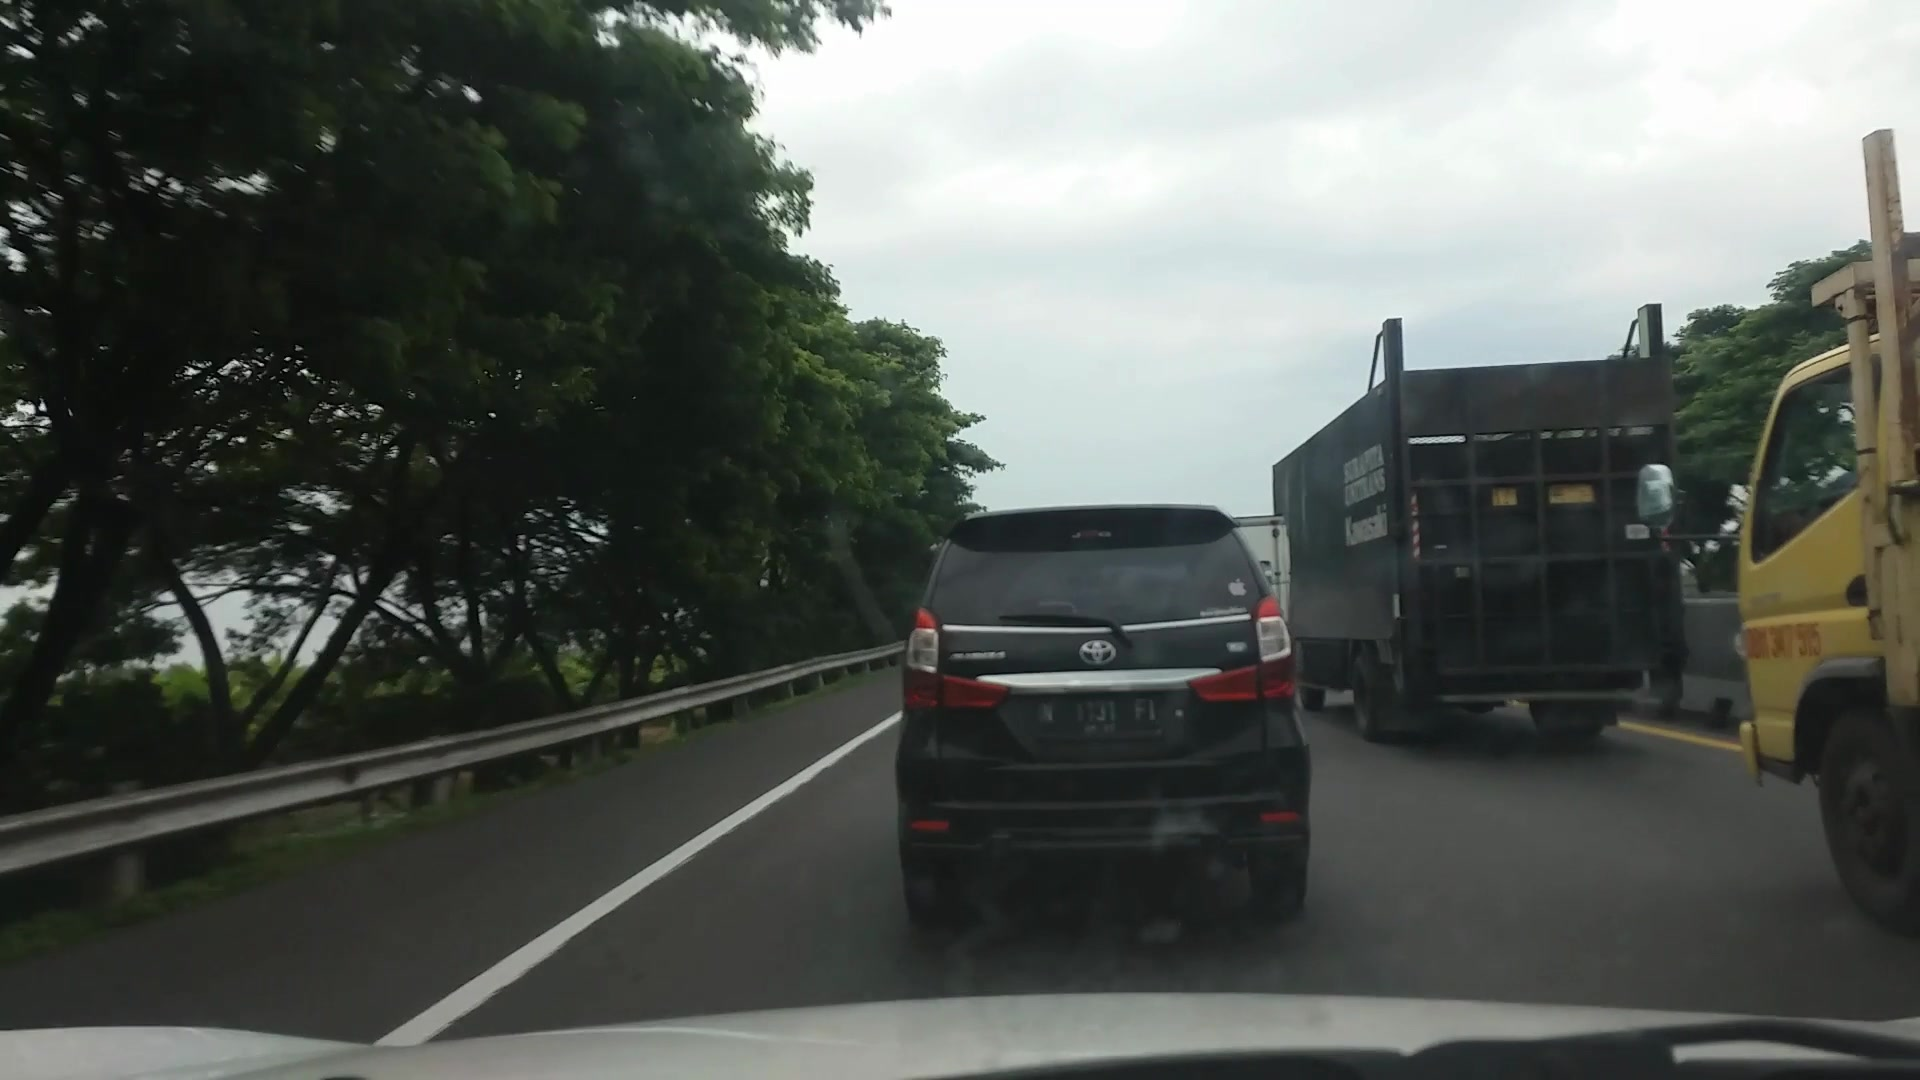plate_positive: (1036, 696, 1163, 738)
